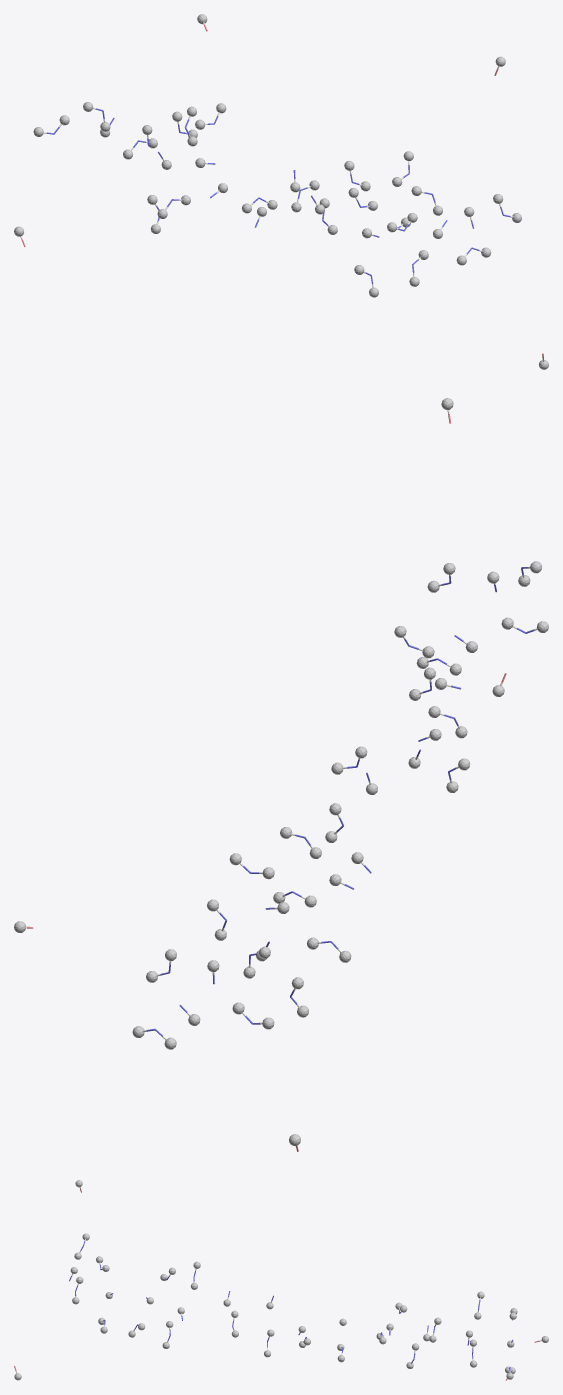
The model's file is 1bna__ball_and_stick__default__H.glb.
The picture shows the model from 3 angles, top to bottom: view 1: azimuth 30°, elevation 25°; view 2: azimuth 150°, elevation 25°; view 3: azimuth 270°, elevation 25°; orthographic projection. The views are drawn at different scales.
Visible parts, largest first — view 1: Renderer Node; view 2: Renderer Node; view 3: Renderer Node.
Part boxes in pixels (left/top/right/bottom): Renderer Node: left=14, top=14, right=548, bottom=369; Renderer Node: left=14, top=398, right=548, bottom=1151; Renderer Node: left=14, top=1180, right=548, bottom=1380.
Bounding box in the file's own units: 14.43 × 23.53 × 43.7.
